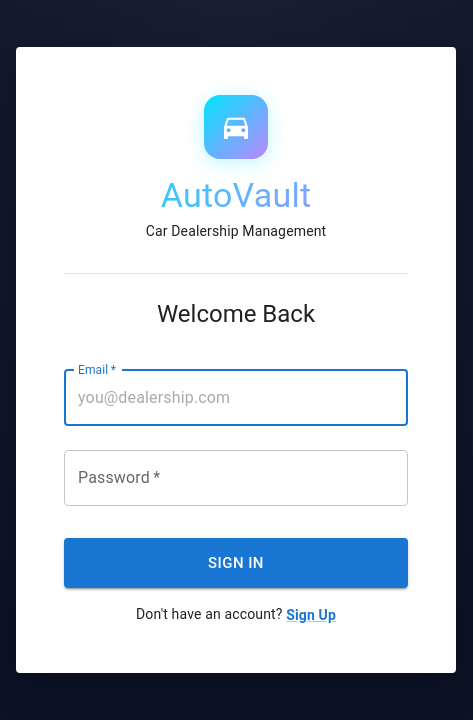
LoginPage › displays an error message when login fails
This screenshot has width=473, height=720.
In the field labelled "Email *": (236, 398) [64,370,408,426], type "bad@dealer.com"
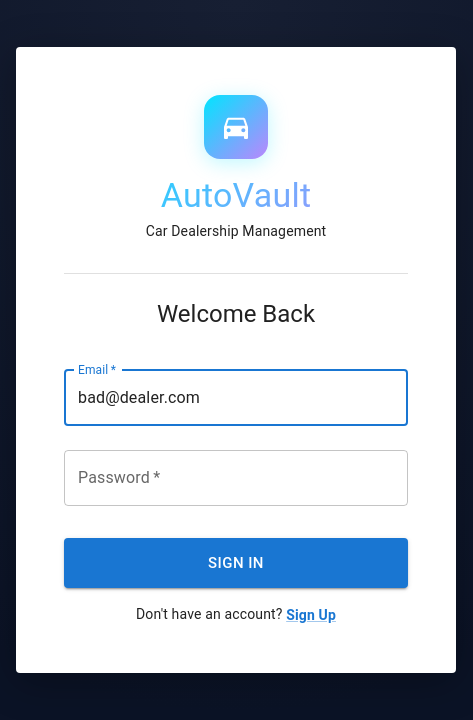
In the password field labelled "Password *": (236, 478) [64,450,408,506], type "wrong"
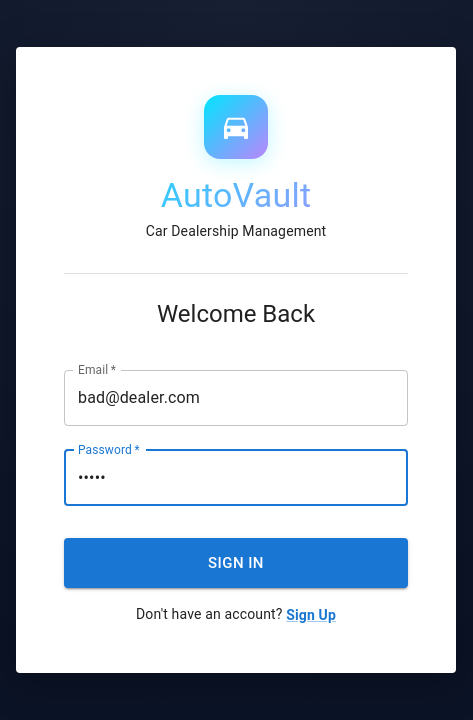
Click the button "Sign In": (236, 563) [64,538,408,588]
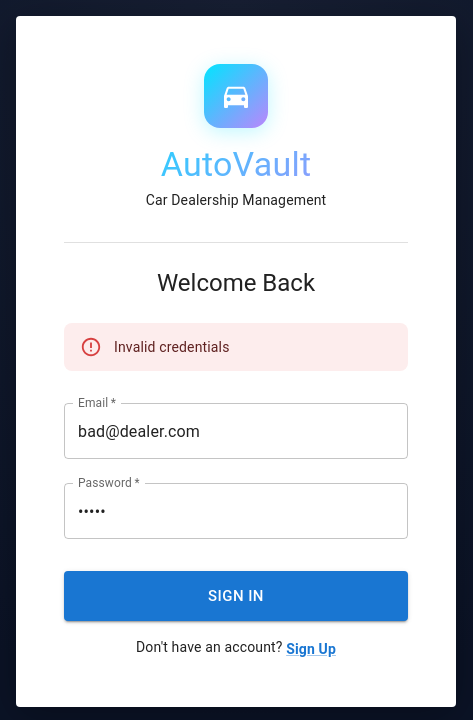
Expected: the text "Invalid credentials" is shown, [114,339,230,355]
